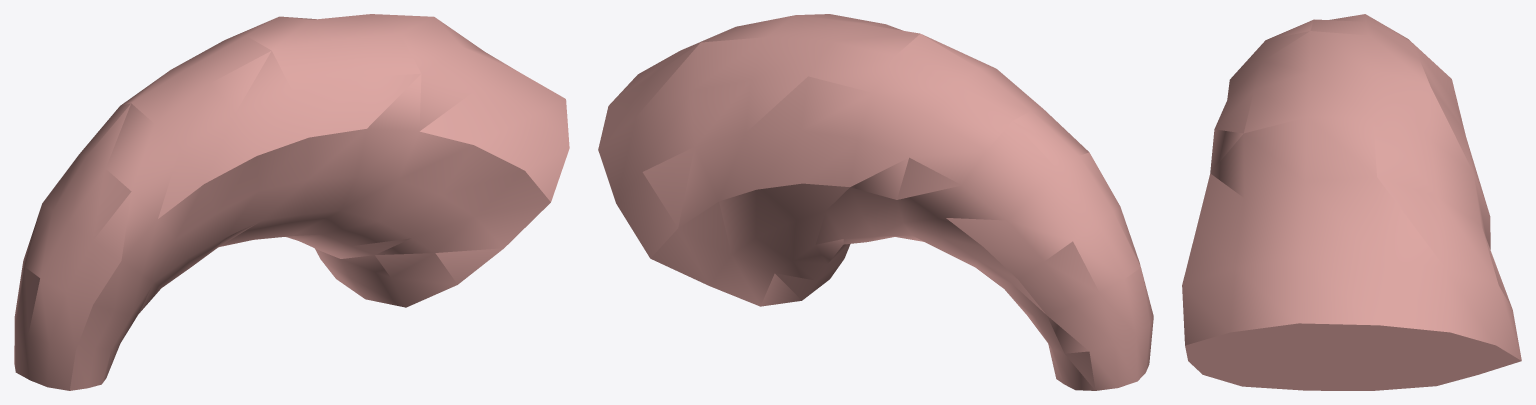
Rendered from stomach.glb.
The picture shows the model from 3 angles, left to right: view 1: azimuth 30°, elevation 25°; view 2: azimuth 150°, elevation 25°; view 3: azimuth 270°, elevation 25°; orthographic projection. The views are drawn at different scales.
Parts seen in each view (by area): view 1: OUT; view 2: OUT; view 3: OUT.
Part boxes in pixels (x1,y1,x2,y2): OUT: [14, 14, 569, 390]; OUT: [598, 14, 1153, 390]; OUT: [1182, 14, 1521, 390].
Size of the model in its own units: 0.214 by 0.1122 by 0.1049.
